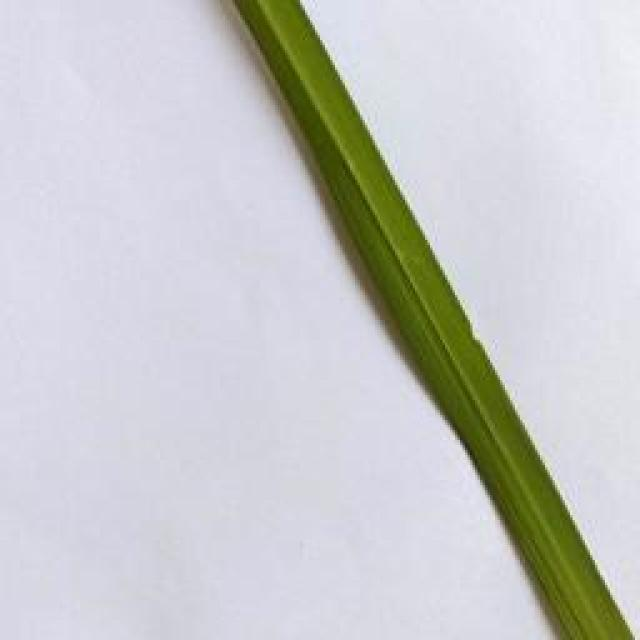Healthy-Plant: (234, 0, 632, 640)
